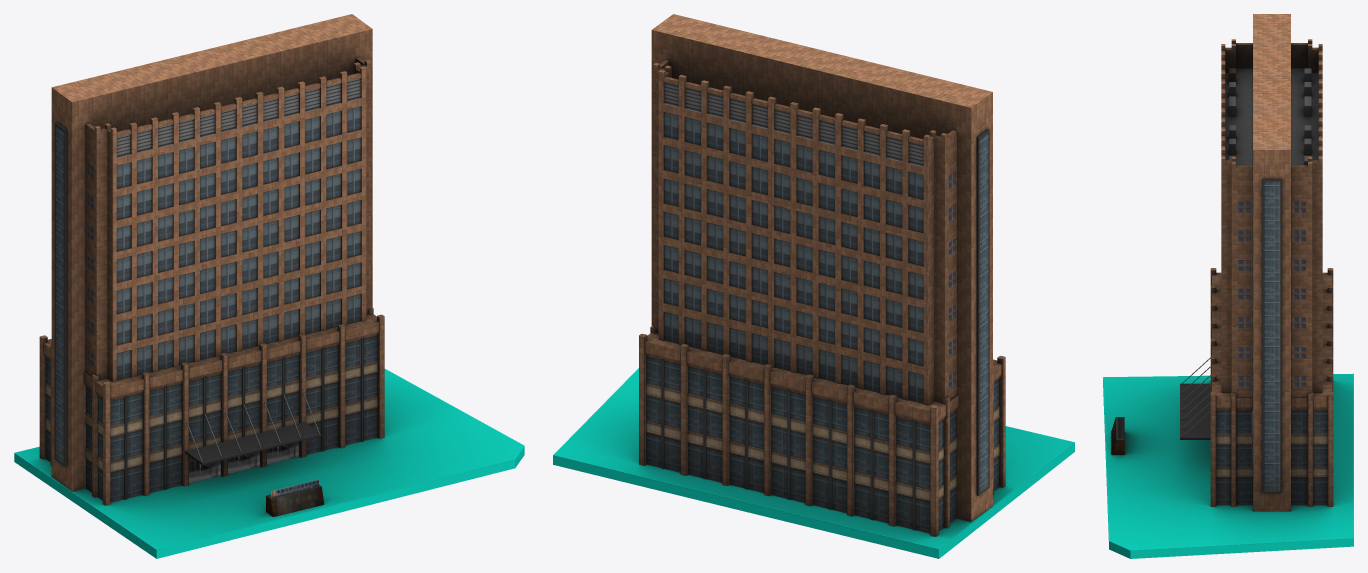
The model's file is cntsg.gltf.
3 renders of one model, left to right at view 1: azimuth 30°, elevation 25°; view 2: azimuth 150°, elevation 25°; view 3: azimuth 270°, elevation 25°, orthographic. The views are drawn at different scales.
Visible parts, largest first — view 1: tsg; view 2: tsg; view 3: tsg.
Boxes of the visible parts, left/top/right/bottom form: tsg: left=14, top=14, right=524, bottom=558; tsg: left=553, top=14, right=1074, bottom=558; tsg: left=1103, top=14, right=1353, bottom=558.
Size of the model in its own units: 9.1 by 8.88 by 5.46.
Materials: 1 (1 with a texture image).
